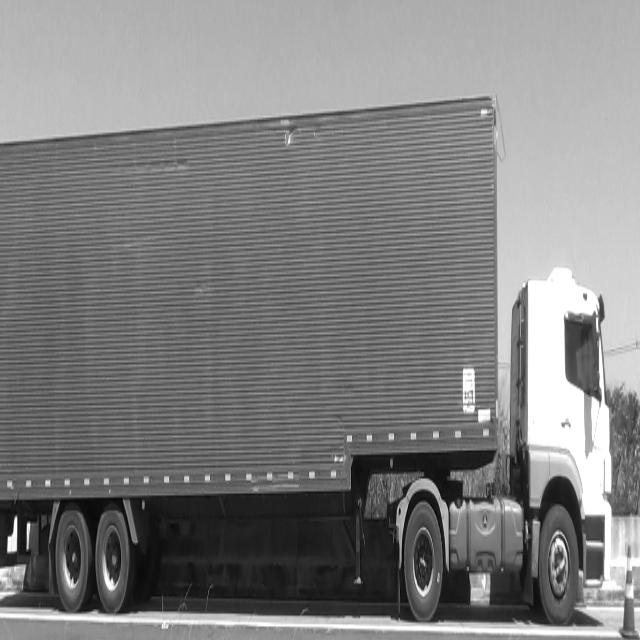Truck: (0, 97, 611, 620)
